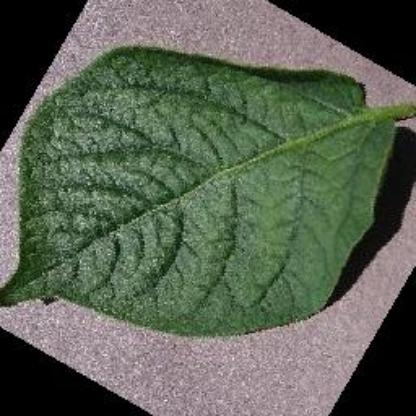Healthy-plant: (3, 43, 415, 334)
